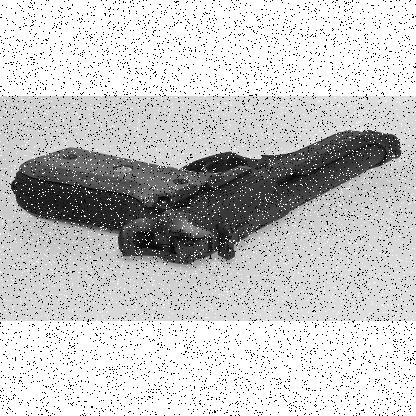gun: (11, 128, 401, 264)
